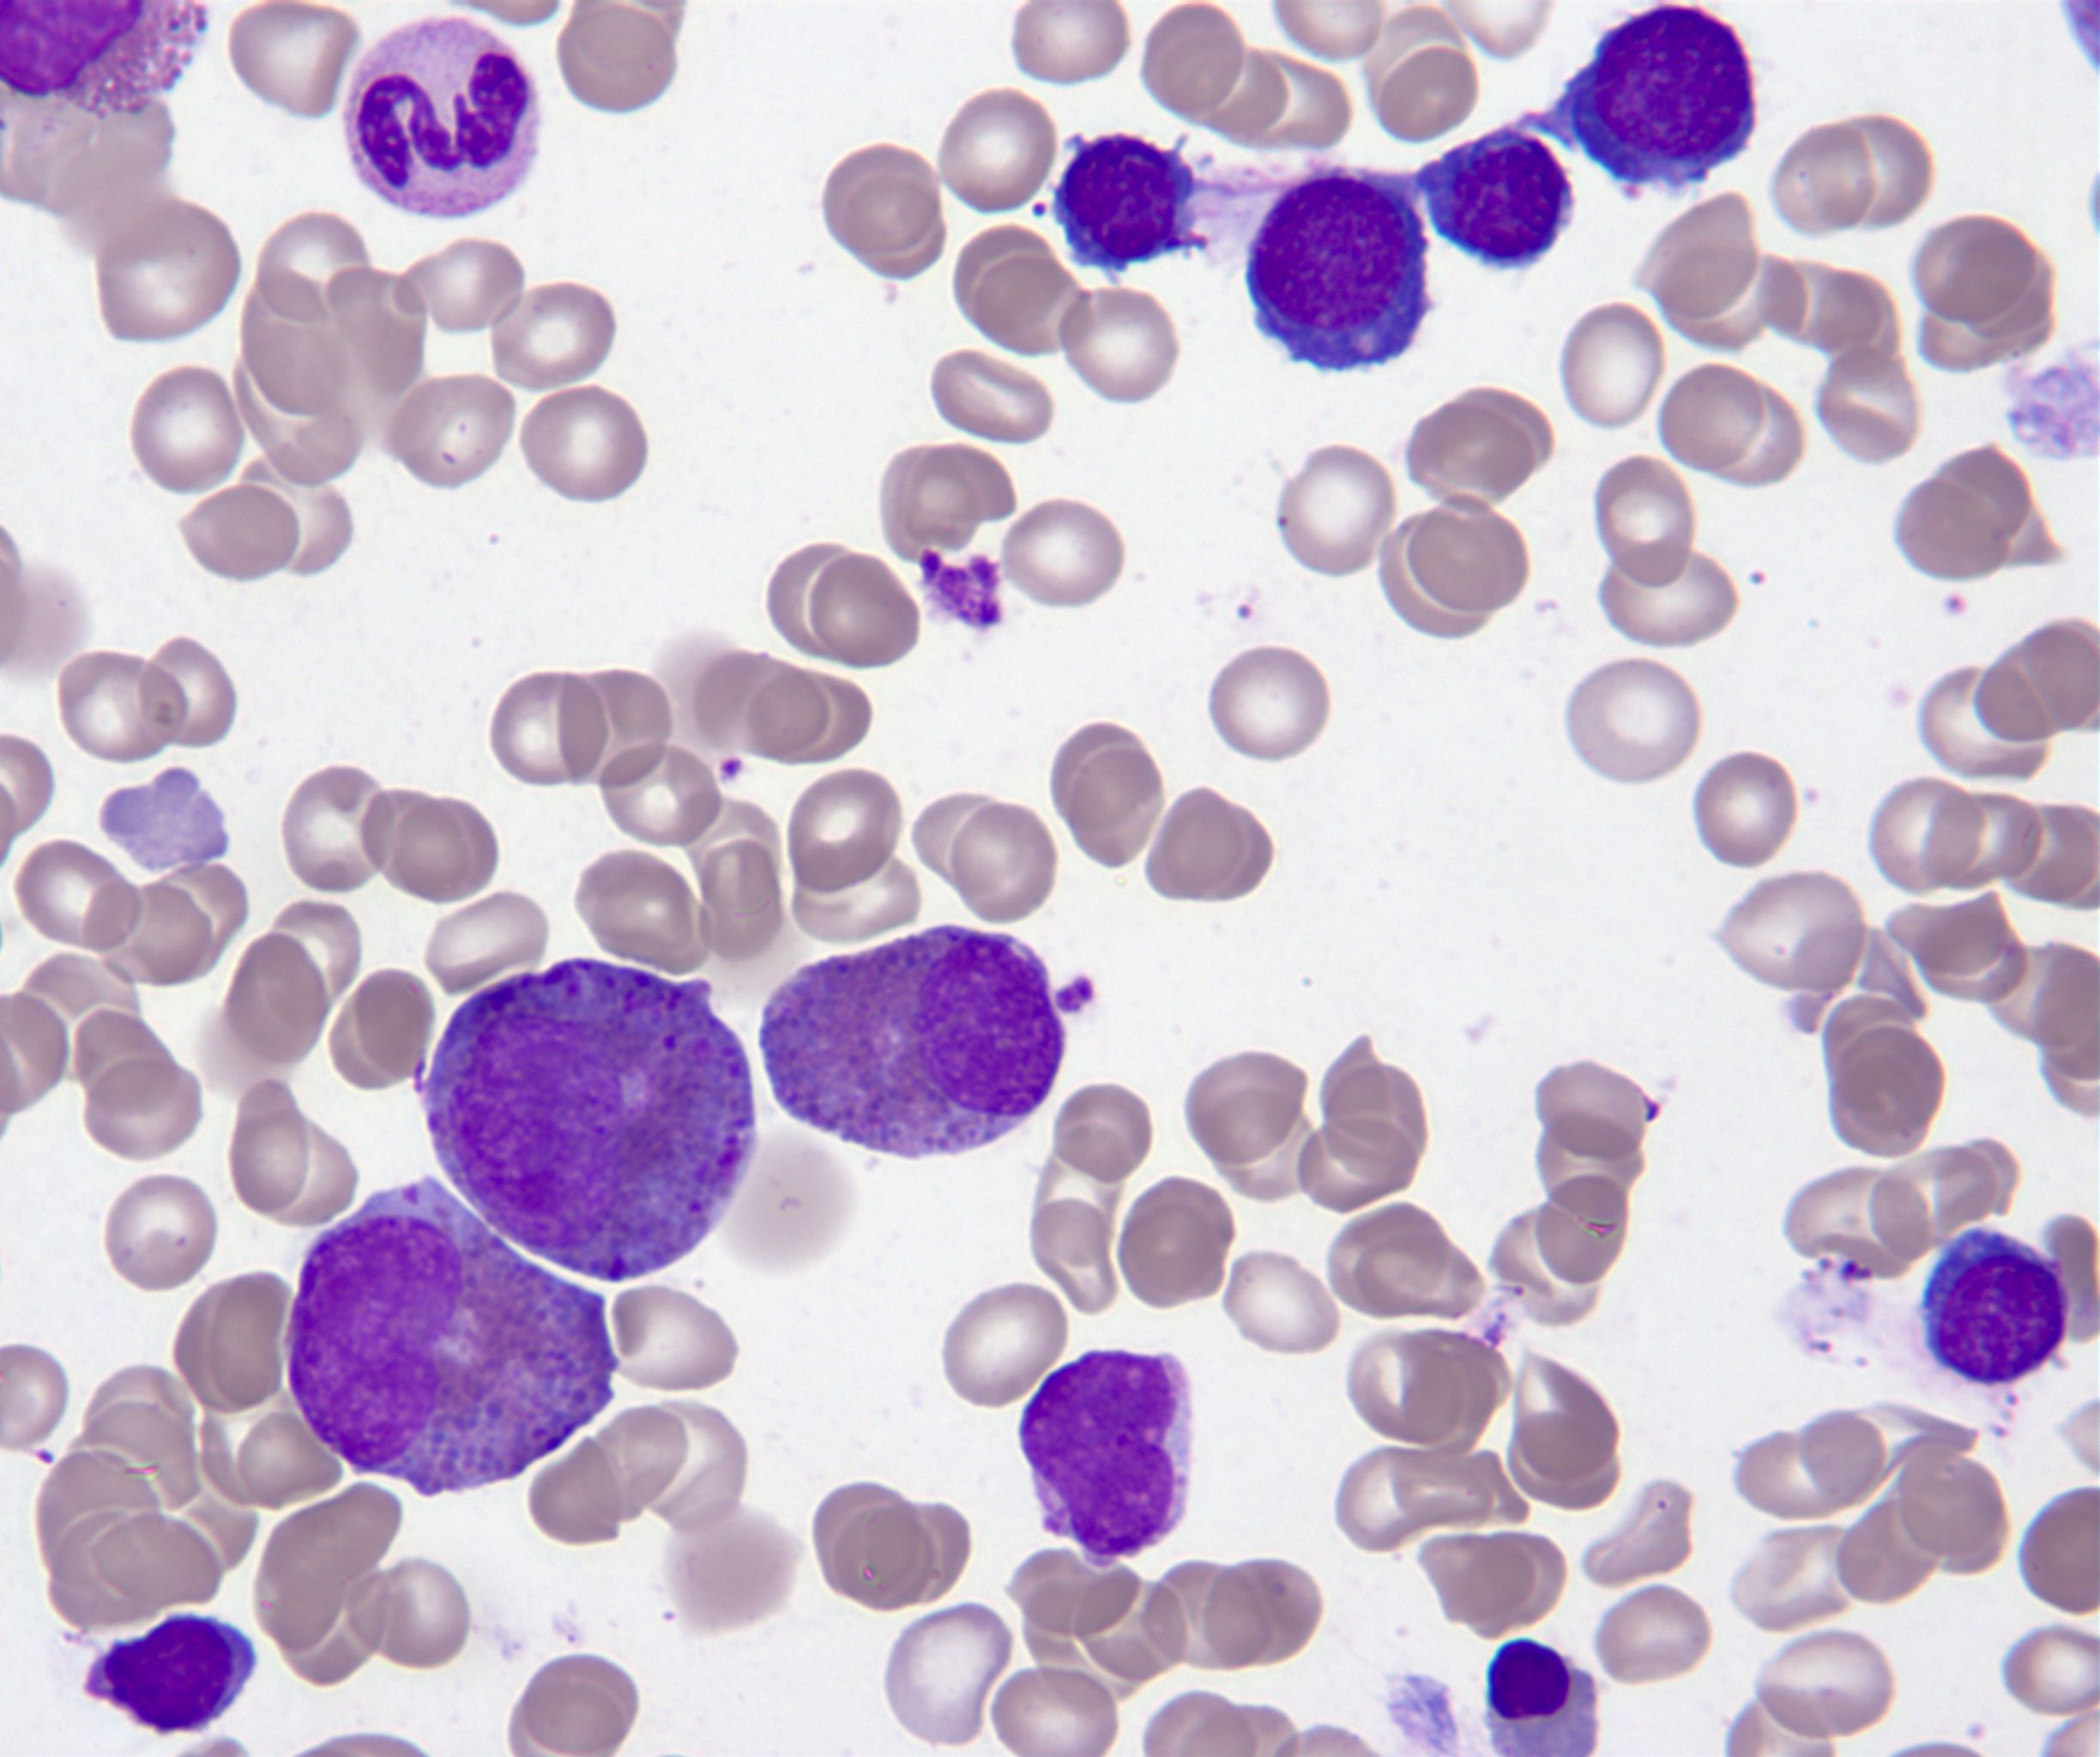23: (1530, 2, 1756, 204), (1242, 176, 1428, 375), (1927, 1227, 2067, 1387), (1052, 134, 1214, 272), (1432, 129, 1575, 269)
24: (1490, 1638, 1596, 1757)
32: (1019, 1349, 1191, 1574), (82, 1616, 256, 1736)
6: (344, 19, 541, 216)
E1: (420, 960, 752, 1281), (284, 1174, 617, 1494), (760, 926, 1062, 1157)
